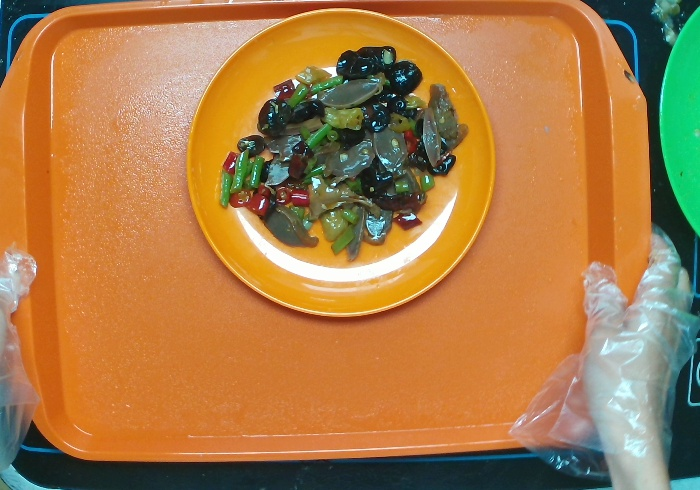HZYJPL-Ju_Huang_Yuan_Pan: (182, 1, 494, 330)
